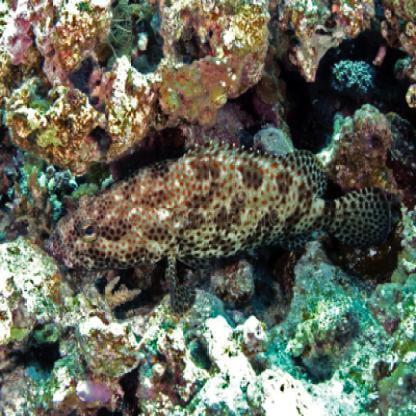grouper: (44, 138, 394, 316)
